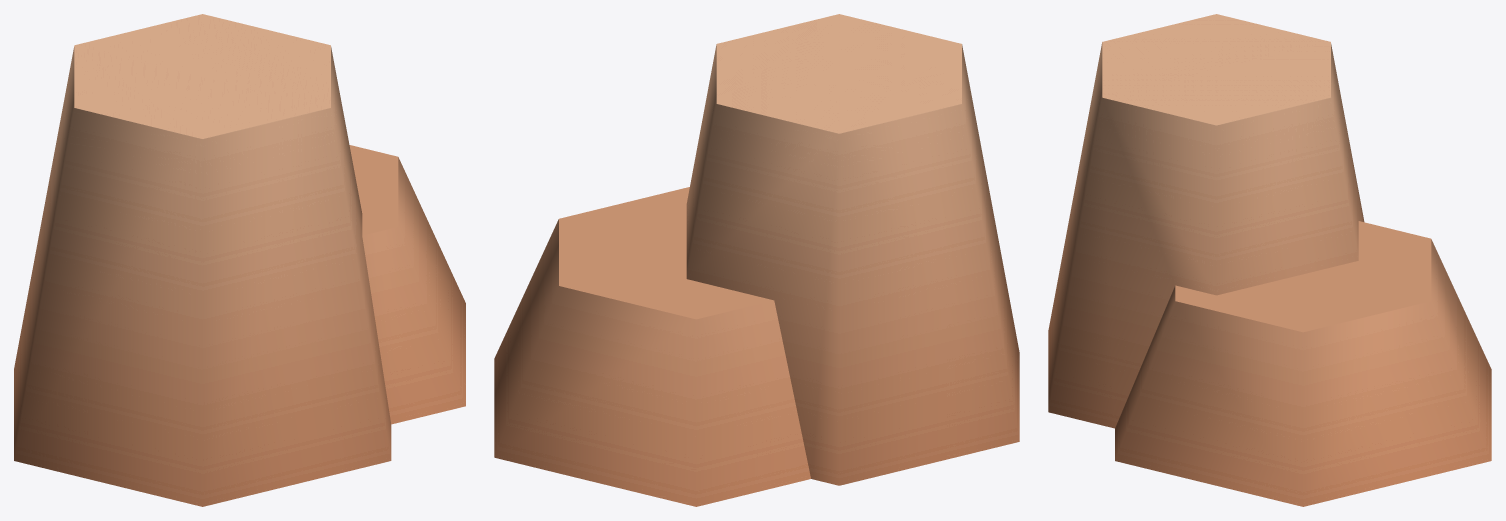
Rendered from resource-stone.glb.
3 views of the same model, side by side, from view 1: azimuth 30°, elevation 25°; view 2: azimuth 150°, elevation 25°; view 3: azimuth 270°, elevation 25° (orthographic). The views are drawn at different scales.
Visible parts, largest first — view 1: resource-stone; view 2: resource-stone; view 3: resource-stone.
Boxes of the visible parts, x1=… form: resource-stone: x1=14, y1=14, x2=465, y2=506; resource-stone: x1=494, y1=14, x2=1019, y2=506; resource-stone: x1=1048, y1=14, x2=1491, y2=506.
Bounding box in the file's own units: 0.1653 × 0.1068 × 0.1422.
1 material, 1 textured.
